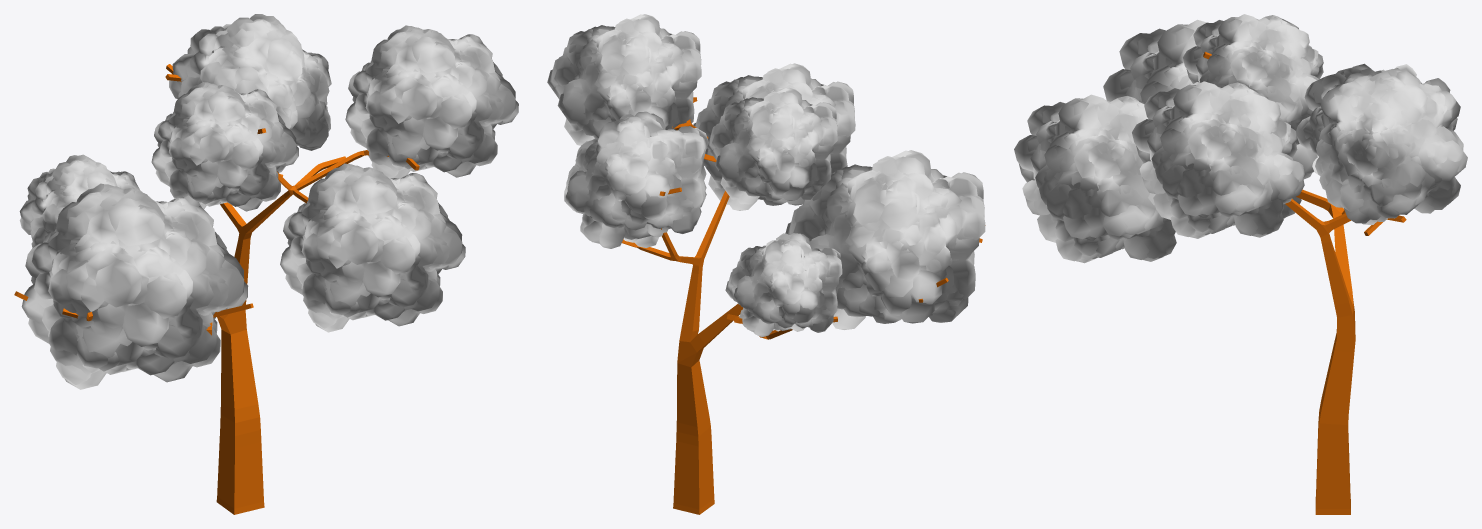
The model's file is Trees 1.fbx.
3 renders of one model, left to right at view 1: azimuth 30°, elevation 25°; view 2: azimuth 150°, elevation 25°; view 3: azimuth 270°, elevation 25°, orthographic. The views are drawn at different scales.
Visible parts, largest first — view 1: Foliage.004, Foliage.002, Foliage.006, Foliage.005, Foliage.003, Plane.001, Foliage.001; view 2: Foliage.004, Foliage.003, Foliage.006, Foliage.005, Plane.001, Foliage.001, Foliage.002; view 3: Foliage.006, Foliage.003, Foliage.002, Foliage.005, Plane.001, Foliage.004.
Boxes of the visible parts, bbox=[...] form: Foliage.004: bbox=[21, 183, 248, 389]; Foliage.002: bbox=[280, 163, 465, 332]; Foliage.006: bbox=[345, 25, 518, 178]; Foliage.005: bbox=[151, 82, 298, 211]; Foliage.003: bbox=[169, 14, 331, 172]; Plane.001: bbox=[14, 64, 419, 514]; Foliage.001: bbox=[19, 154, 140, 248]; Foliage.004: bbox=[785, 150, 985, 329]; Foliage.003: bbox=[564, 111, 708, 248]; Foliage.006: bbox=[547, 14, 701, 145]; Foliage.005: bbox=[707, 87, 837, 204]; Plane.001: bbox=[622, 97, 985, 514]; Foliage.001: bbox=[725, 233, 842, 337]; Foliage.002: bbox=[693, 63, 855, 210]; Foliage.006: bbox=[1132, 81, 1304, 238]; Foliage.003: bbox=[1296, 63, 1467, 224]; Foliage.002: bbox=[1014, 94, 1176, 263]; Foliage.005: bbox=[1183, 14, 1323, 145]; Plane.001: bbox=[1203, 52, 1406, 514]; Foliage.004: bbox=[1103, 19, 1317, 218].
Bounding box in the file's own units: 520 × 509 × 431.
